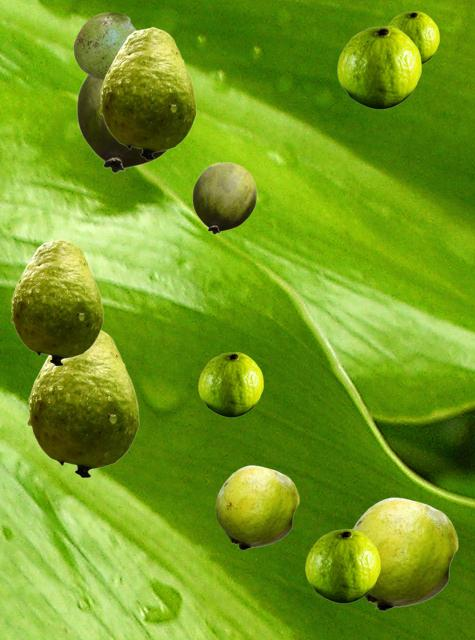guava: (27, 330, 138, 477), (99, 27, 195, 159), (352, 497, 457, 610), (10, 239, 102, 365), (76, 75, 167, 172), (215, 465, 298, 549), (337, 26, 420, 108), (305, 529, 379, 602), (192, 162, 256, 233), (73, 12, 136, 78), (198, 352, 262, 416), (387, 11, 438, 65)
